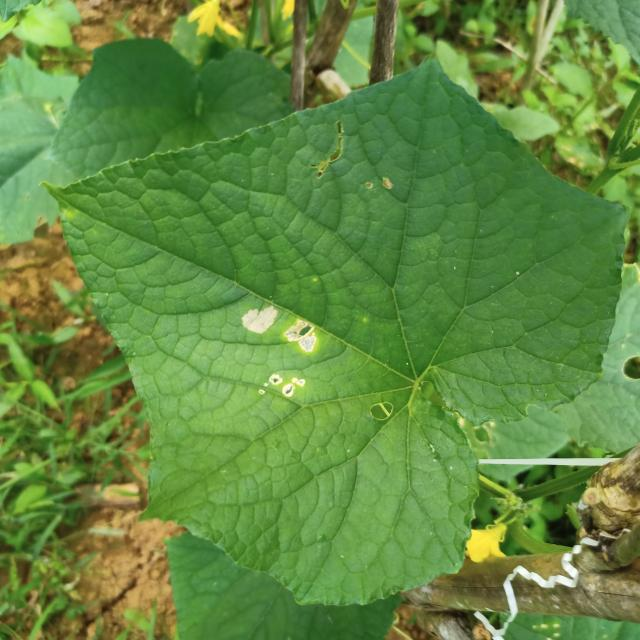disease_cucumber: (235, 301, 323, 409)
